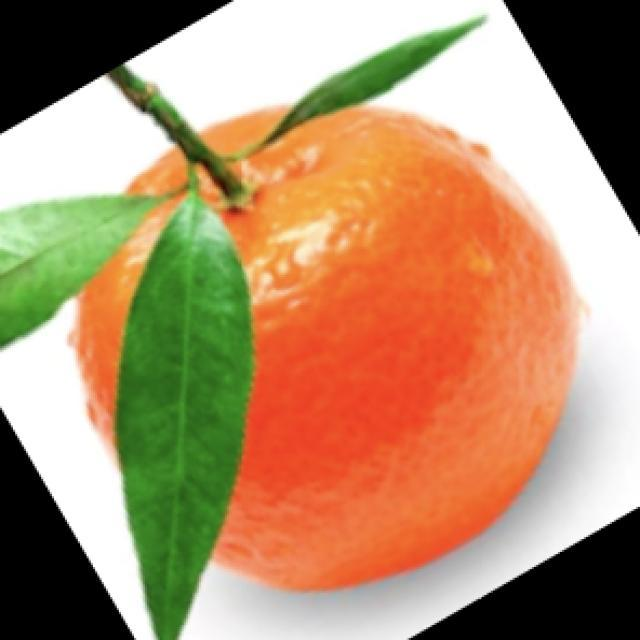matang: (0, 17, 576, 639)
